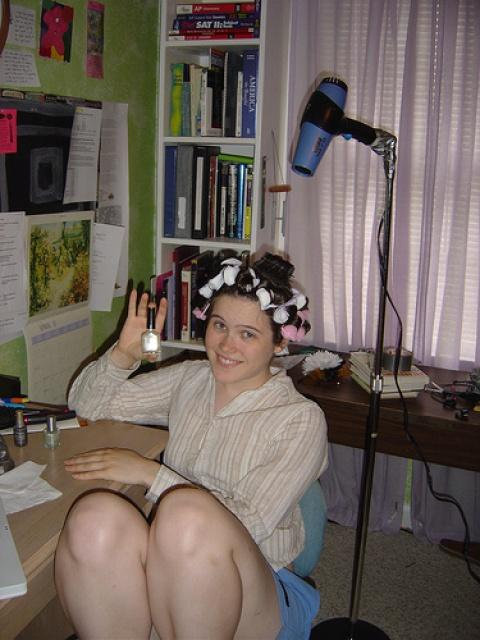Rak: (150, 0, 266, 346)
